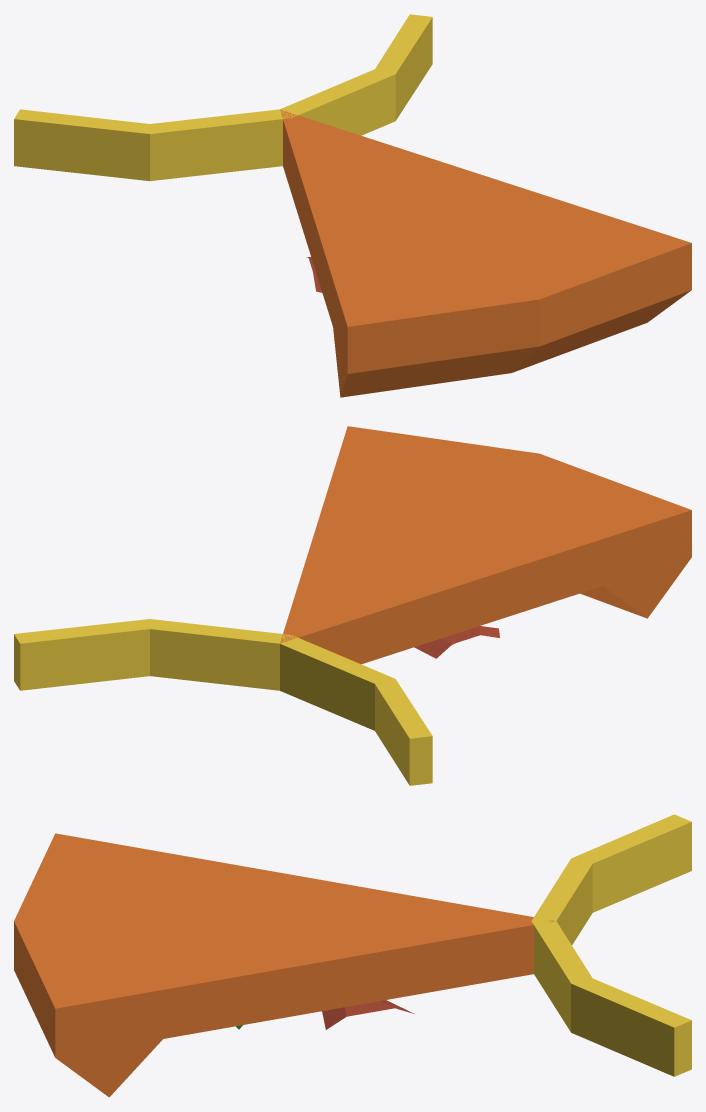
Rendered from hat-pizza.glb.
3 renders of one model, top to bottom at view 1: azimuth 30°, elevation 25°; view 2: azimuth 150°, elevation 25°; view 3: azimuth 270°, elevation 25°, orthographic. The views are drawn at different scales.
Visible parts, largest first — view 1: hat-pizza; view 2: hat-pizza; view 3: hat-pizza.
Part boxes in pixels (<box>): hat-pizza: <box>14,14,691,397</box>; hat-pizza: <box>14,426,691,785</box>; hat-pizza: <box>14,814,691,1097</box>.
Size of the model in its own units: 0.931 by 0.2 by 1.25.
Materials: 1 (1 with a texture image).
